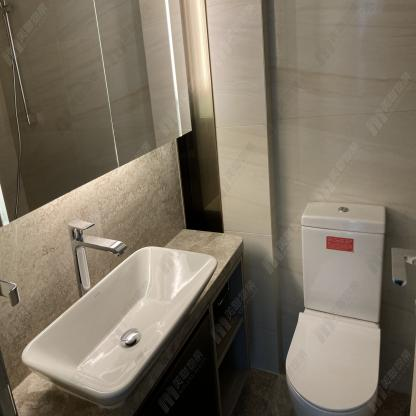Toilet: (285, 202, 385, 416)
Toilet Sink: (22, 246, 218, 408)
